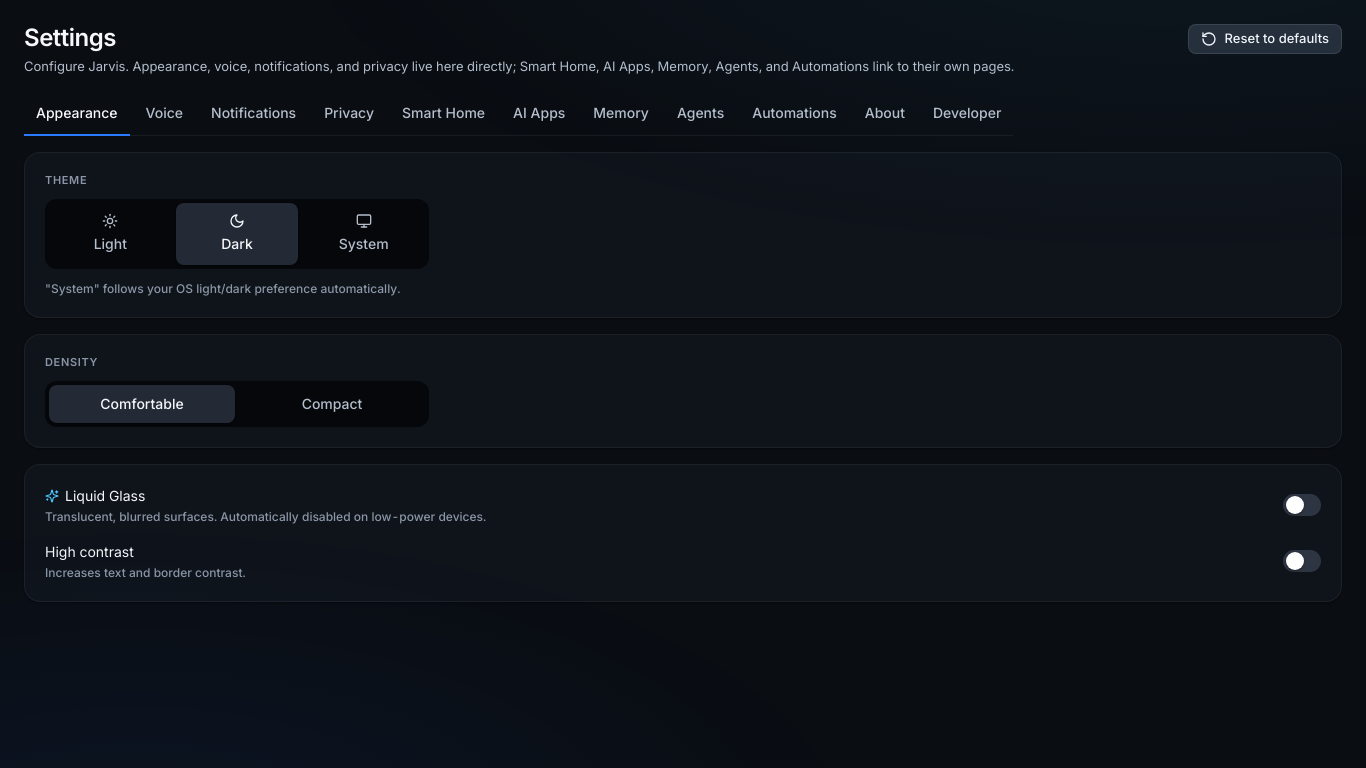
Test case: SettingsPage › Smart Home tab shows real counts from SmartHomeService and connector cards
Click the tab with test id "settings-tab-smart-home": (444,114) [390,92,497,136]
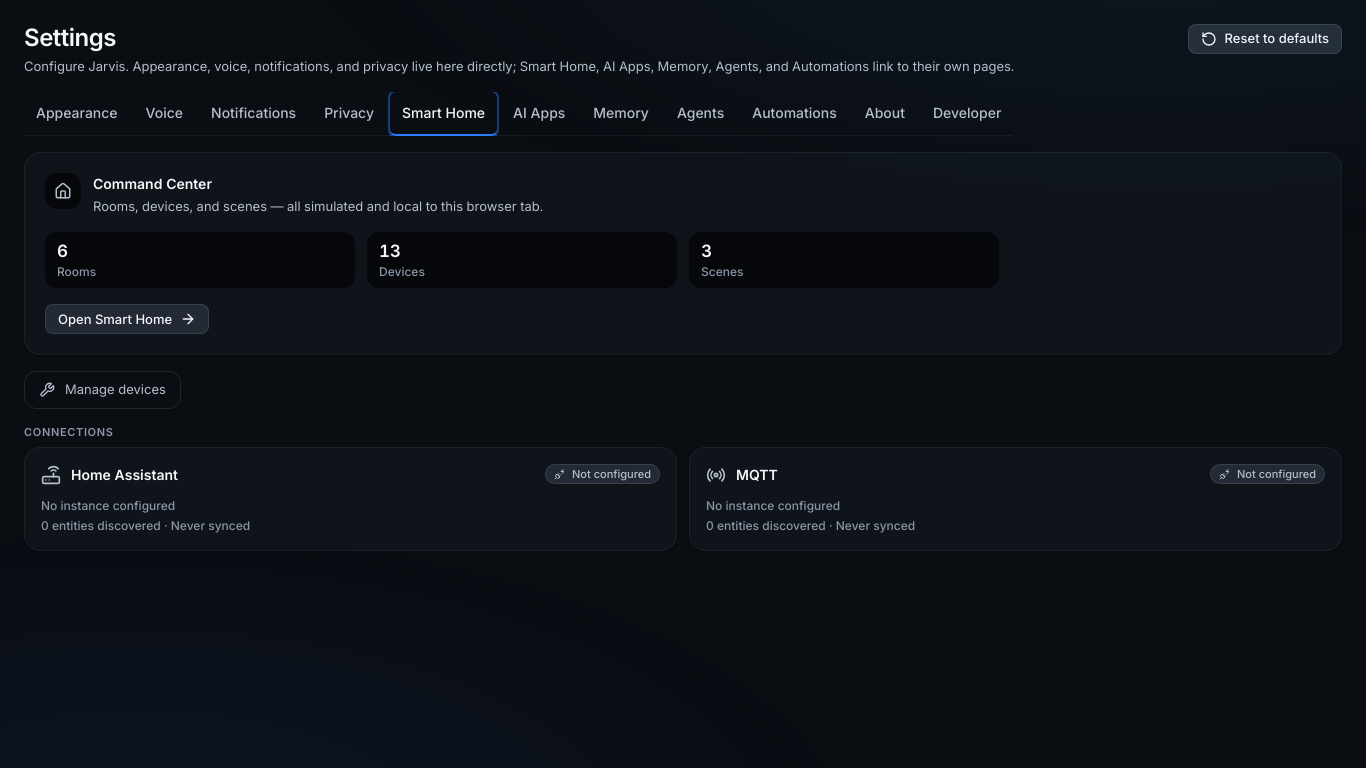
Result: the text "Rooms" is shown at [57,264,96,279]
Result: the button with test id "connector-card-home_assistant" is shown at [24,447,677,551]
Result: the button with test id "connector-card-mqtt" is shown at [689,447,1342,551]
